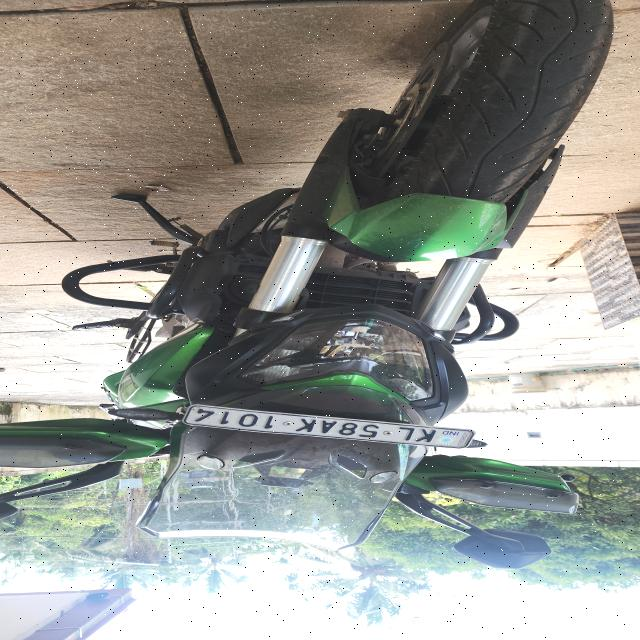headlight: (237, 317, 440, 402)
